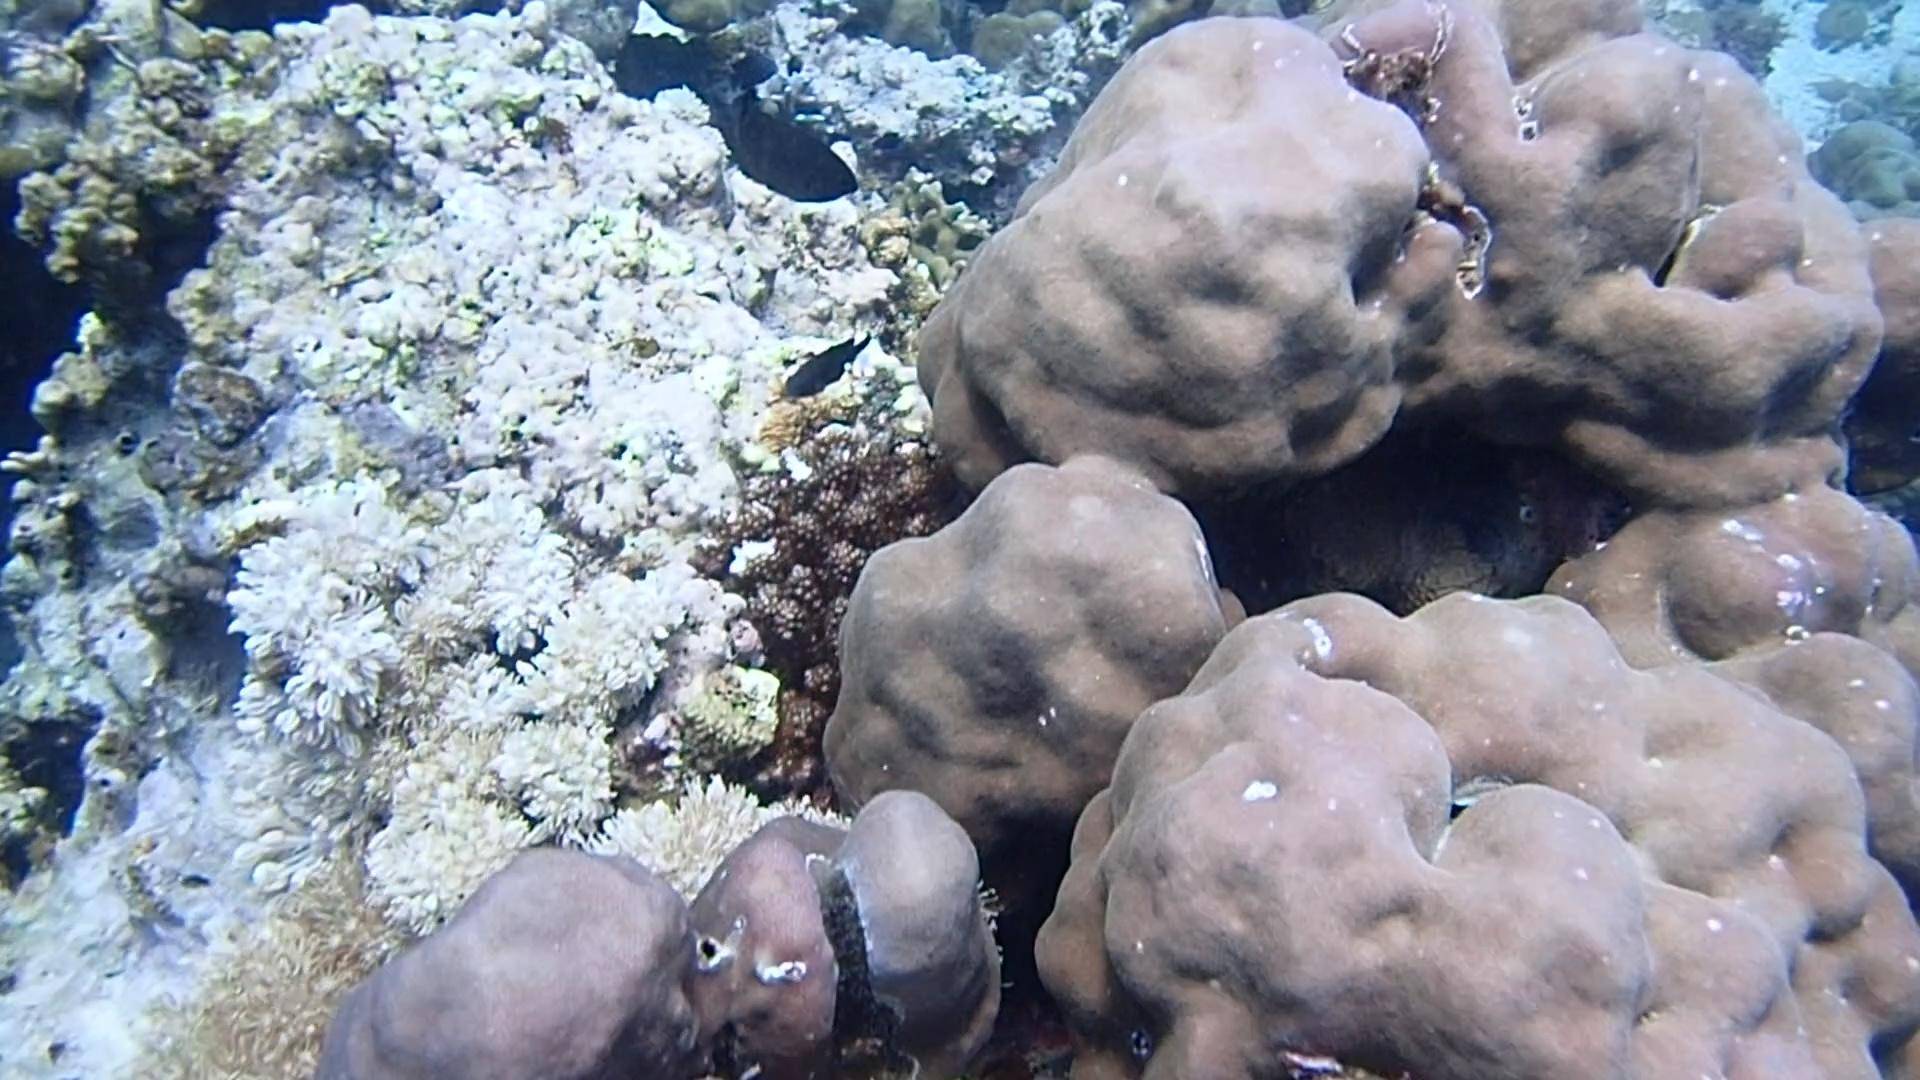Dark Fish: (715, 84, 866, 210), (778, 326, 881, 402), (724, 50, 782, 91), (861, 120, 914, 158)
